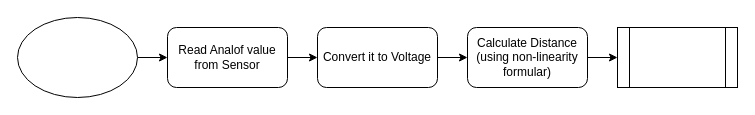
Image size: 755x115. Some labels were removed from this diagram. The shapes that lost their labels are listed below. From the top down, each one's centre as x and y in pixels, then its label:
At pixel 77 57: "START".
At pixel 677 57: "Output Distance (mm)".
